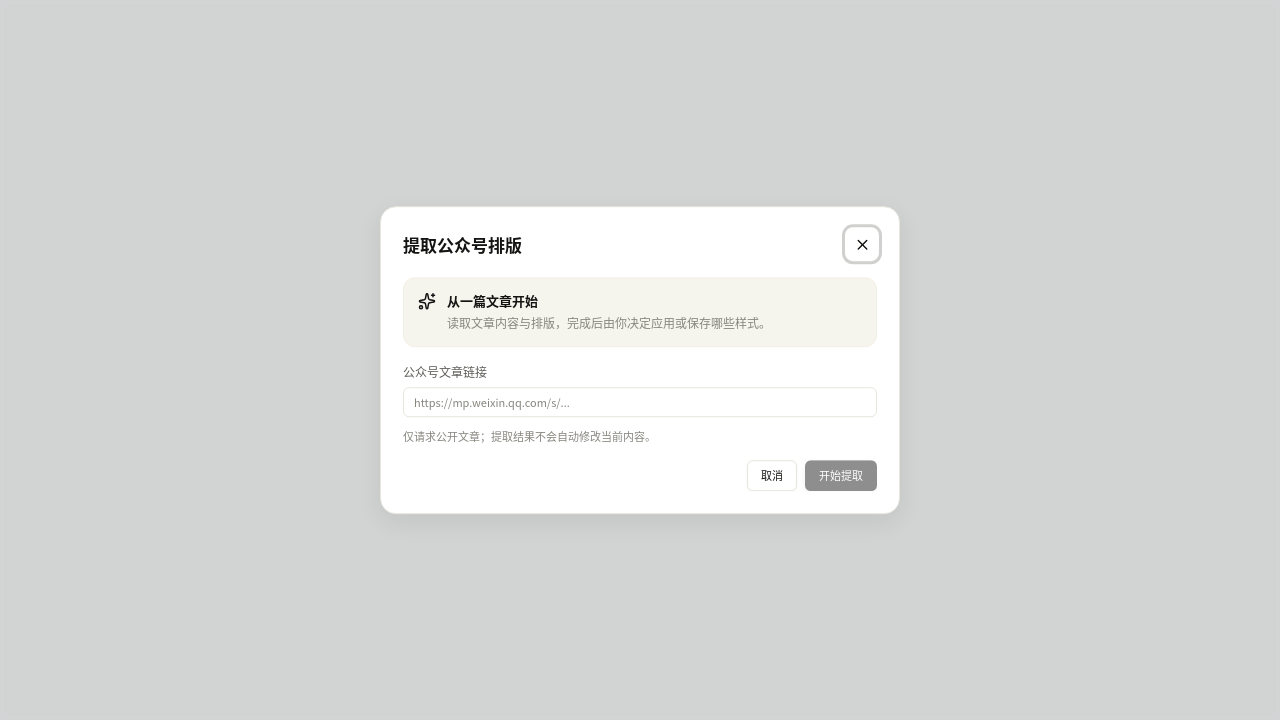
Test case: WechatExtractDialog › 完成提取后先询问是否保存正文，再展示可选择的样式结果
Step 1. Type "https://mp.weixin.qq.com/s/example" into the field labelled "公众号文章链接" → coordinates (640, 402), box x1=403 y1=387 x2=877 y2=417
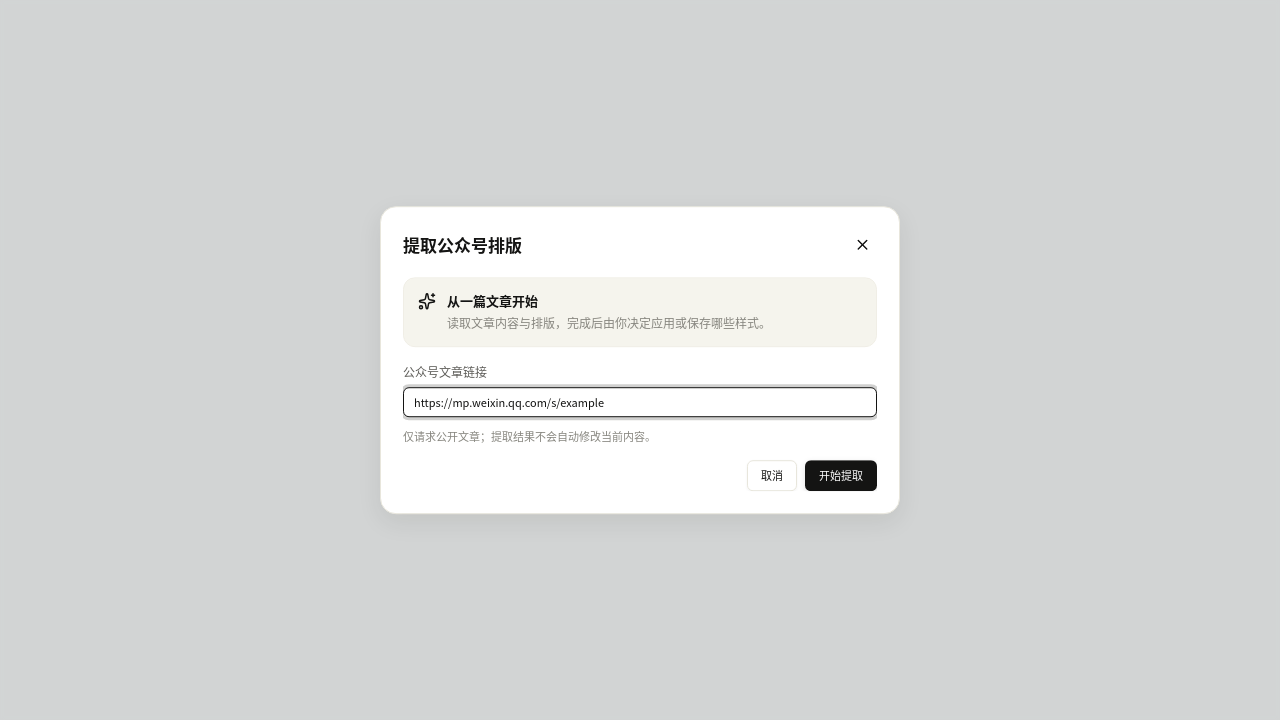
Step 2. Click the button "开始提取" → coordinates (841, 475), box x1=805 y1=460 x2=877 y2=491
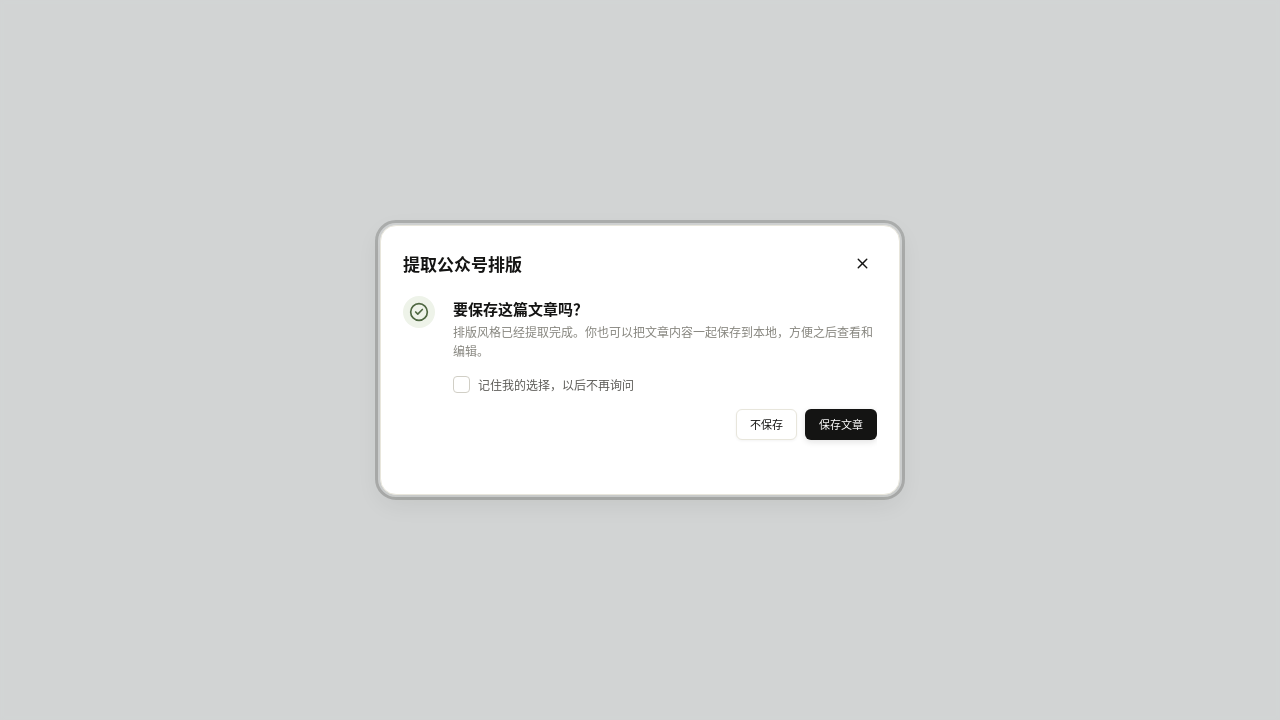
Check: the heading "要保存这篇文章吗？" is shown, box x1=453 y1=298 x2=588 y2=319
Step 3. Click the button "不保存" → coordinates (766, 425), box x1=736 y1=409 x2=797 y2=440
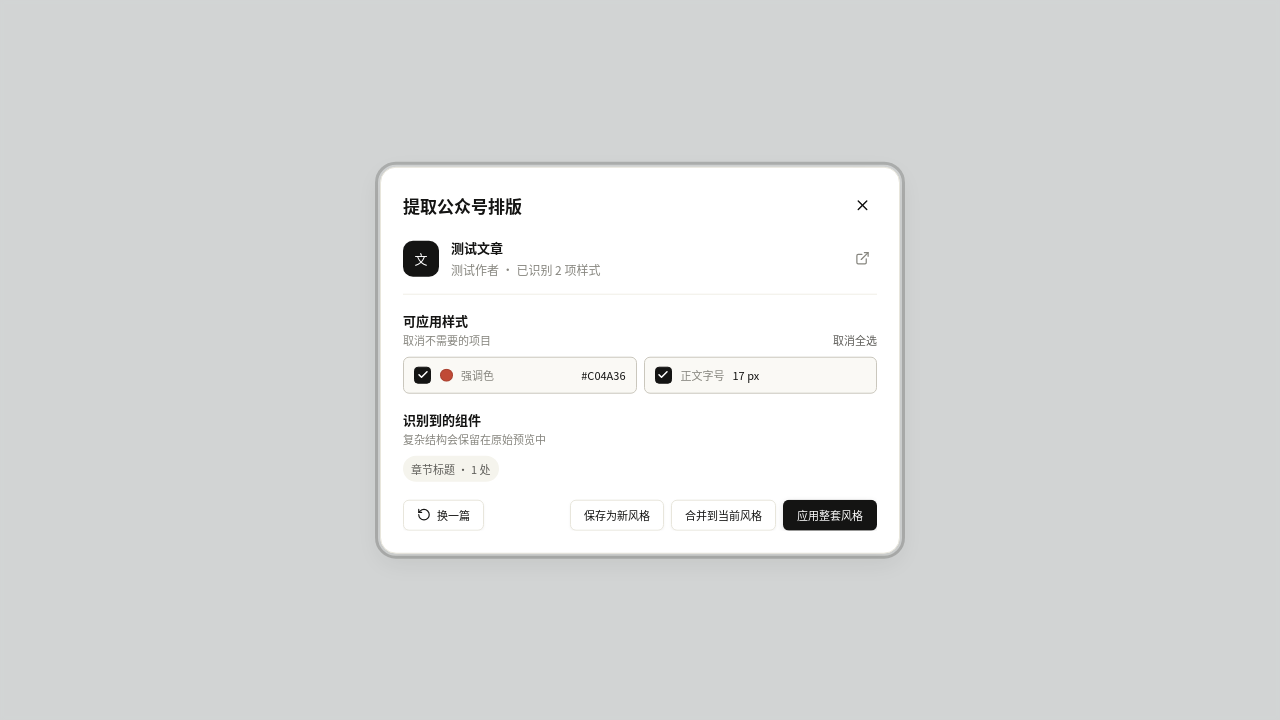
Check: the text "测试文章" is shown, box x1=451 y1=238 x2=503 y2=257
Check: the checkbox named "应用 强调色" is checked, box x1=414 y1=366 x2=431 y2=383
Check: the text "章节标题 · 1 处" is shown, box x1=403 y1=455 x2=498 y2=481
